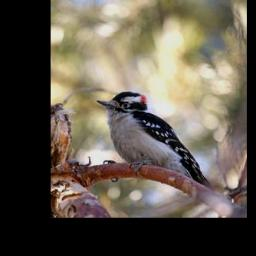Woodpecker: (97, 92, 212, 191)
